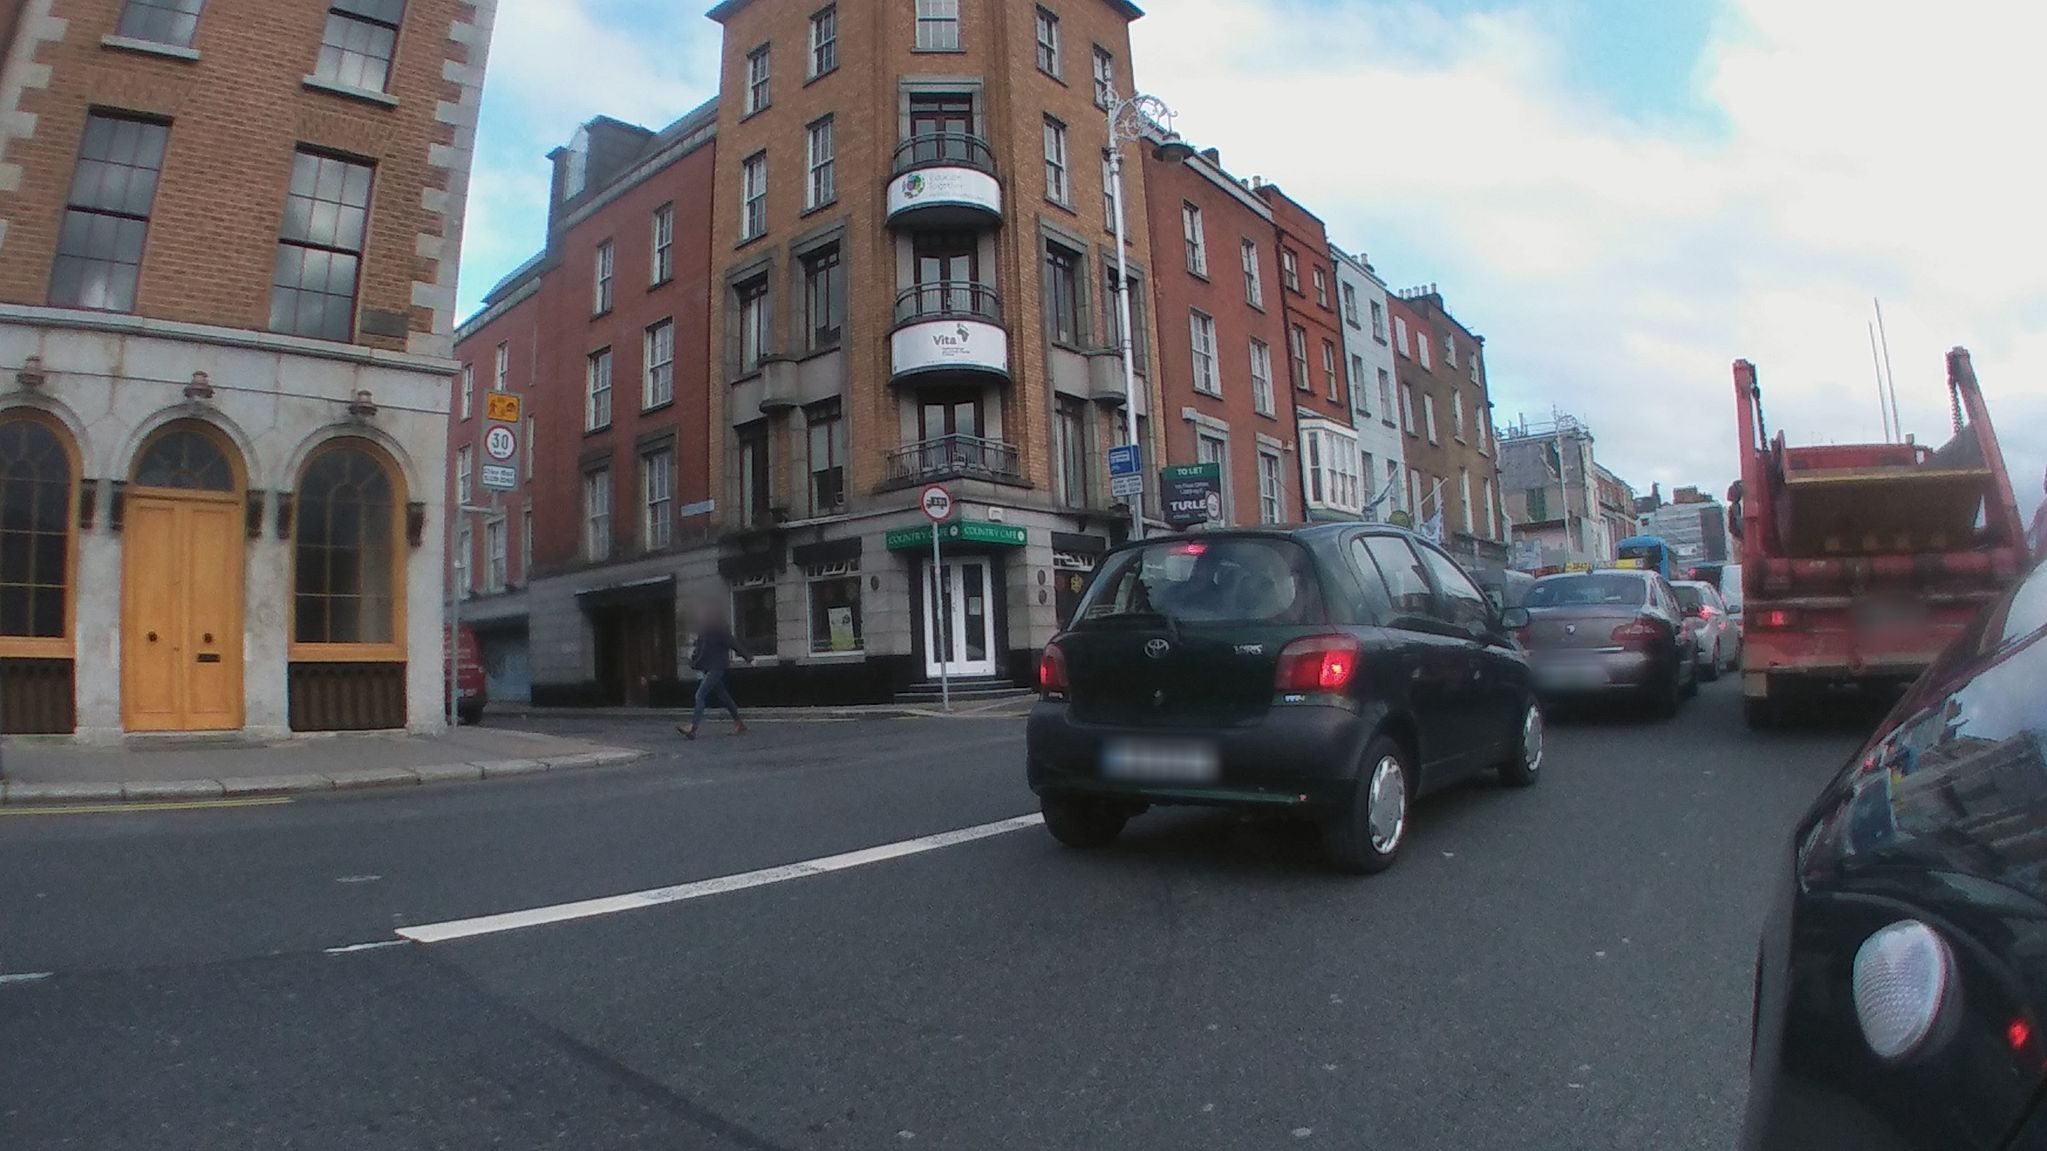property sign: (1144, 457, 1227, 528)
